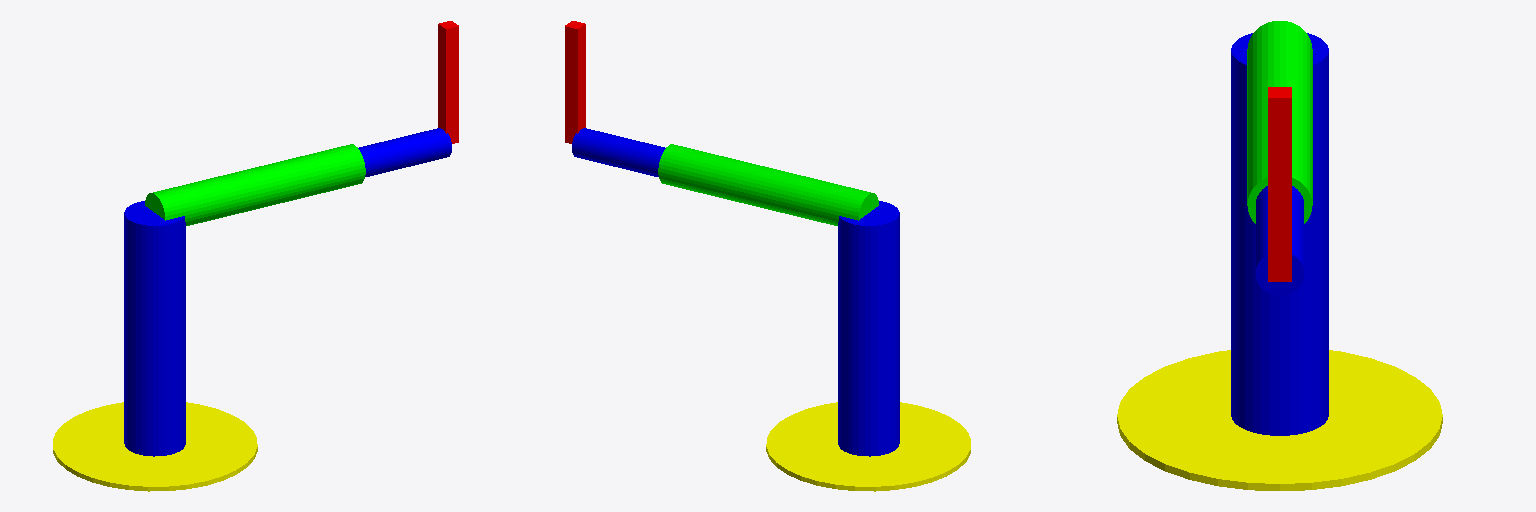
The robot description file, URDF, robot "simple_robot":
<robot name="simple_robot"> <!--  robot name- you decide   -->
<!--  sequence : link-joint-link-joint- ... -link    -->
<!--  first link called base_link --> 
<!--  units: meters for distance, rad in case of angles -->  
<link name="base_link">
    <visual>
      <geometry>
        <cylinder length="0.01" radius="0.2"/> 
      </geometry>
      <origin rpy="0 0 0" xyz="0 0 0"/> <!--  rpy: roll pitch yaw -> orientation xyz> position --> 
      <material name="generic">
        <color rgba="1 1 0 1"/>
      </material>
    </visual>
  </link>
<!--  first joint --> 
  <joint name="joint1" type="revolute"> <!--  types: revolute and prismatic --> 
    <parent link="base_link"/>
    <child link="link1"/>
    <origin xyz="0 0 0"/>
    <axis xyz="0 0 1"/>
    <limit effort="300" velocity="0.1" lower="-3.14" upper="3.14"/>
    <dynamics damping="50" friction="1"/>
  </joint>
<!--  link 1--> 
  <link name="link1">
    <visual>
      <geometry>
        <cylinder length="0.5" radius="0.06"/>
      </geometry>
      <origin rpy="0 0 0" xyz="0 0 0.25"/>
      <material name="generic_2">
        <color rgba="0 0 1 1"/>
      </material>
    </visual>
  </link>
<!--  joint 2--> 
  <joint name="joint2" type="revolute">
    <parent link="link1"/>
    <child link="link2"/>
    <origin xyz="0 0 0.5"/>
    <axis xyz="0 1 0"/>
    <limit effort="300" velocity="0.1" lower="-3.14" upper="3.14"/>
    <dynamics damping="50" friction="1"/>
  </joint>
<!--  link 2--> 
  <link name="link2">
    <visual>
      <geometry>
        <cylinder length="0.45" radius="0.04"/>
      </geometry>
      <origin rpy="0 1.5708 0" xyz="0.225 0 0"/>
      <material name="generic_3">
        <color rgba="0 1 0 1"/>
      </material>
    </visual>
  </link>
<!--  joint 3--> 
  <joint name="joint3" type="revolute">
    <parent link="link2"/>
    <child link="link3"/>
    <origin xyz="0.45 0 0"/>
    <axis xyz="1 0 0"/>
    <limit effort="300" velocity="0.1" lower="-3.14" upper="3.14"/>
    <dynamics damping="50" friction="1"/>
  </joint>
<!--  link 3--> 
  <link name="link3">
    <visual>
      <geometry>
        <cylinder length="0.2" radius="0.03"/>
      </geometry>
      <origin rpy="0 1.5708 0" xyz="0.1 0 0"/>
      <material name="generic_4">
        <color rgba="0 0 1 1"/>
      </material>
    </visual>
  </link>
<!--  link 4--> 
  <joint name="joint4" type="prismatic">
    <parent link="link3"/>
    <child link="link4"/>
    <origin xyz="0.21 0 0"/>
    <axis xyz="0 0 -1"/>
    <limit effort="300" velocity="0.1" lower="-0.2" upper="0.2"/>
    <dynamics damping="50" friction="1"/>
  </joint>
  <link name="link4">
    <visual>
      <geometry>
        <box size="0.25 0.03 0.03"/>
      </geometry>
      <origin rpy="0 1.5708 0" xyz="0 0 0.125"/>
      <material name="generic_5">
        <color rgba="1 0 0 1"/>
      </material>
    </visual>
  </link>

<!-- link extra-->
  <joint name="joint5" type="prismatic">
    <parent link="link4"/>
    <child link="link5"/>
    <origin xyz="0 0 0"/>
    <axis xyz="0 0 -1"/>
    <limit effort="300" velocity="0.1" lower="-0.2" upper="0.2"/>
    <dynamics damping="50" friction="1"/>
  </joint>
  <link name="link5">
    <visual>
      <geometry>
        <box size="0.0 0.0 0.0"/>
      </geometry>
      <origin rpy="0 1.5708 0" xyz="0 0 0.125"/>
      <material name="generic_5">
        <color rgba="1 0 0 1"/>
      </material>
    </visual>
  </link>
</robot>

--- What the picture shows (computed from the rendered views, not written in the file) ---
The picture shows the robot from 3 angles, left to right: view 1: azimuth 30°, elevation 25°; view 2: azimuth 150°, elevation 25°; view 3: azimuth 270°, elevation 25°; orthographic projection.
Model simple_robot with 6 links and 5 joints (3 revolute, 2 prismatic), rooted at base_link, posed every joint at zero.
Visible links, largest first — view 1: link1, base_link, link2, link3, link4; view 2: link1, base_link, link2, link3, link4; view 3: base_link, link1, link2, link4, link3.
Boxes of the visible links, box(x1,y1,x2,y2) form: link1: box(124, 201, 185, 456); base_link: box(53, 402, 257, 491); link2: box(145, 144, 365, 225); link3: box(358, 128, 451, 176); link4: box(438, 21, 458, 143); link1: box(838, 201, 899, 456); base_link: box(766, 402, 970, 491); link2: box(658, 144, 878, 225); link3: box(572, 128, 665, 176); link4: box(565, 21, 585, 143); base_link: box(1117, 350, 1442, 490); link1: box(1231, 33, 1328, 435); link2: box(1247, 21, 1312, 223); link4: box(1268, 87, 1291, 281); link3: box(1256, 186, 1303, 295).
Bounding box of the posed robot: 0.875 × 0.4 × 0.755 m (x, y, z).
Geometry: primitives only (box / cylinder / sphere), no mesh files.